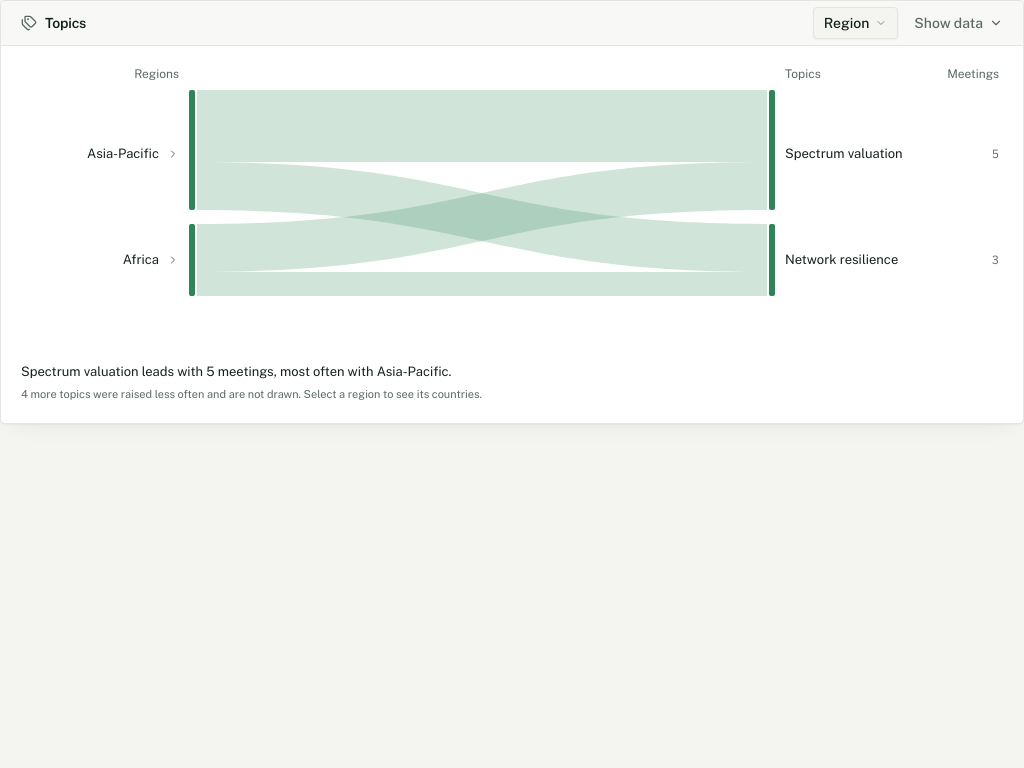
Test: TopicsFigure › drills into the region chosen in the menu, and comes back out the same way
Click the button "Region": coordinates (856, 23) [813,7,898,39]
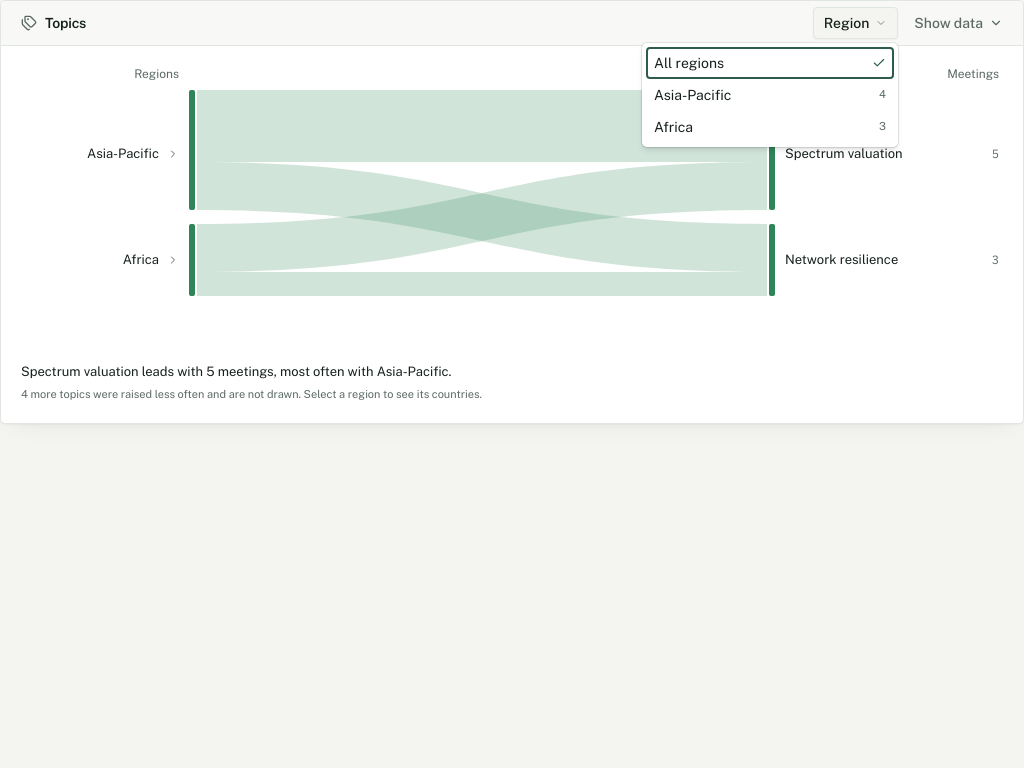
Click the button "Asia-Pacific 4": coordinates (770, 95) [646,79,894,111]
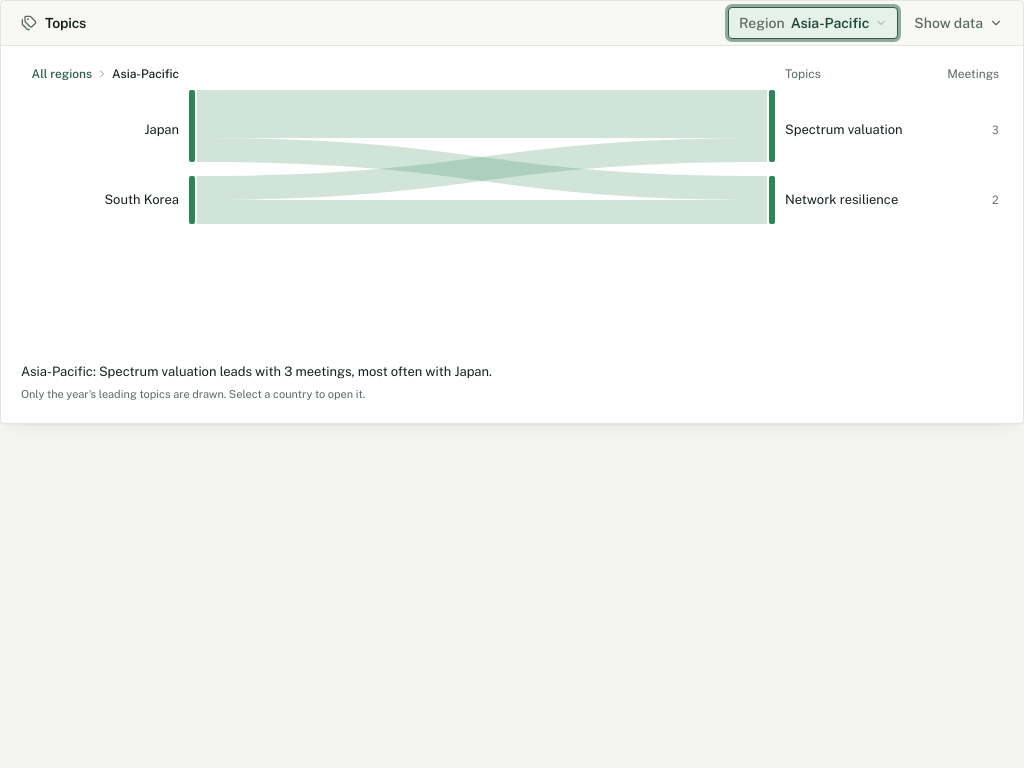
Check: the element named "Topics raised in FY26 by Asia-Pacific, by country" is shown, box [21,90,1003,350]
Click the button "Region Asia-Pacific": coordinates (813, 23) [728,7,898,39]
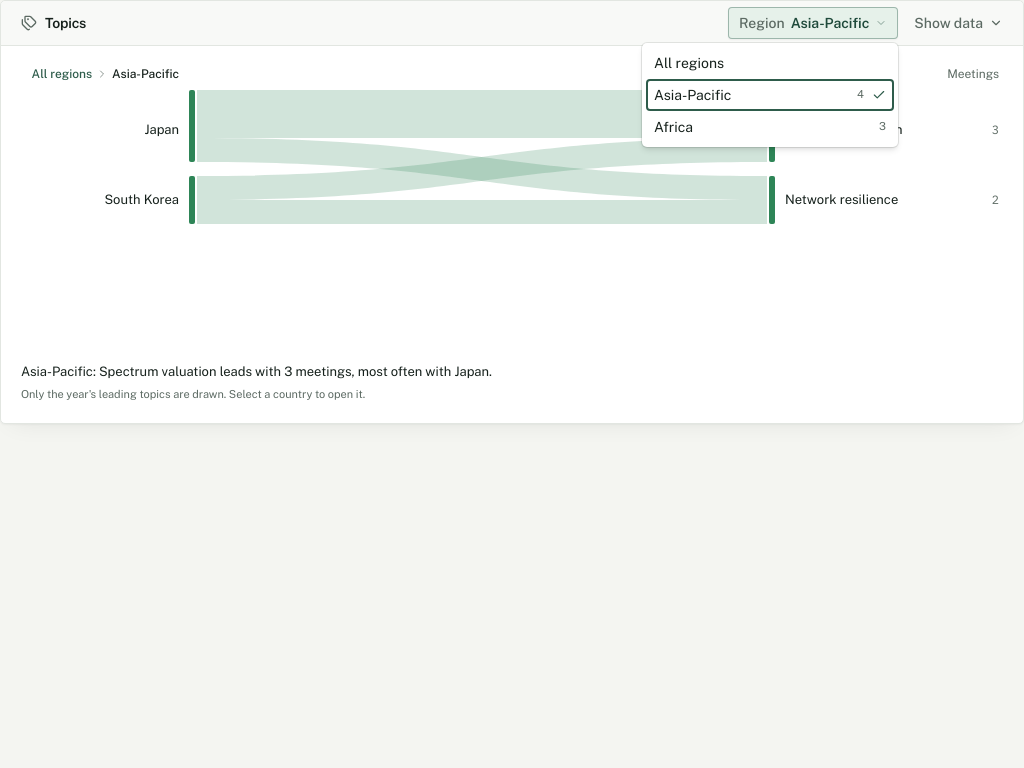
Click the 1st button "All regions": coordinates (770, 63) [646,47,894,79]
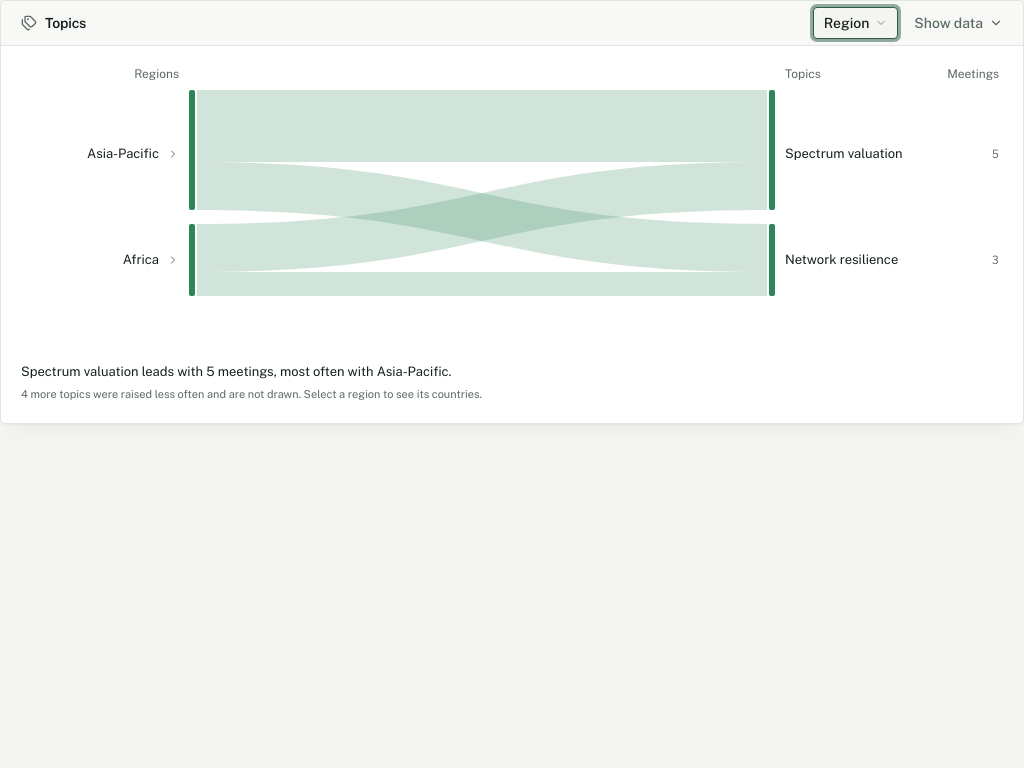
Check: the link "Japan" is gone
Check: the element named "Topics raised in FY26, by region" is shown, box [21,90,1003,350]
